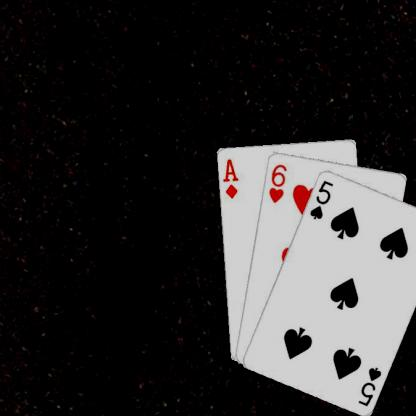5S: (355, 364, 382, 408), (307, 177, 334, 220)
6H: (266, 161, 288, 204)
AD: (219, 156, 240, 199)
